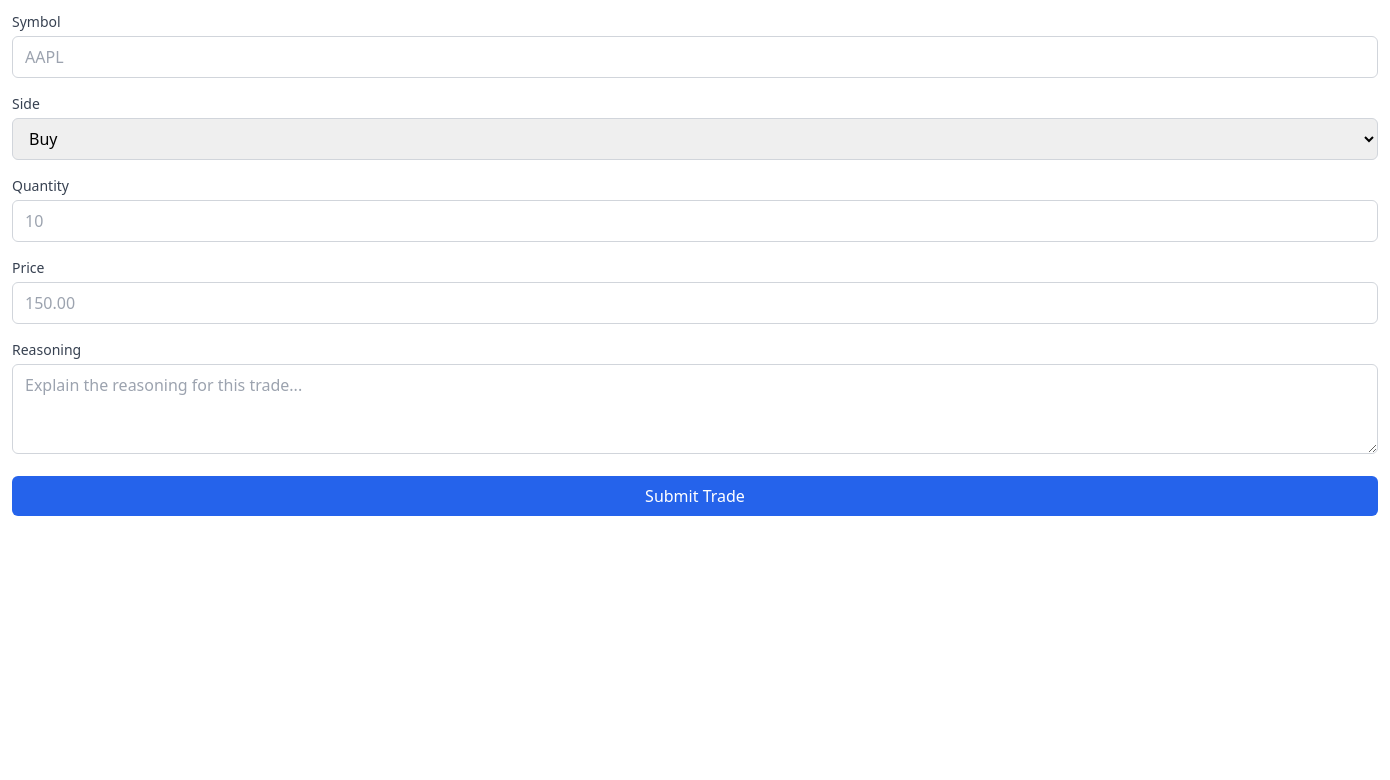
TradeForm › shows warning for large trades
Type "20" into the number field labelled "Quantity".
click(695, 221); type("20")  # box [12,200,1378,242]
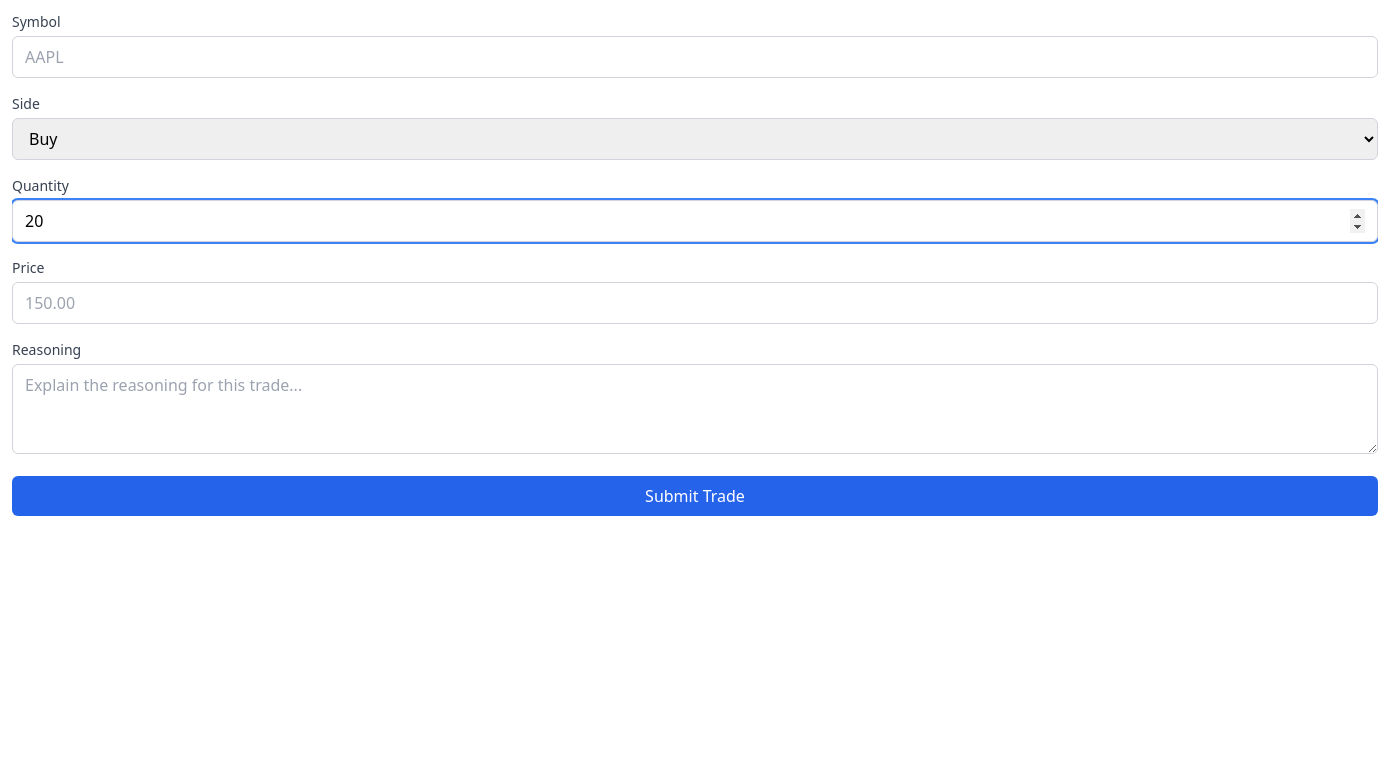
Type "100" into the number field labelled "Price".
click(695, 303); type("100")  # box [12,282,1378,324]
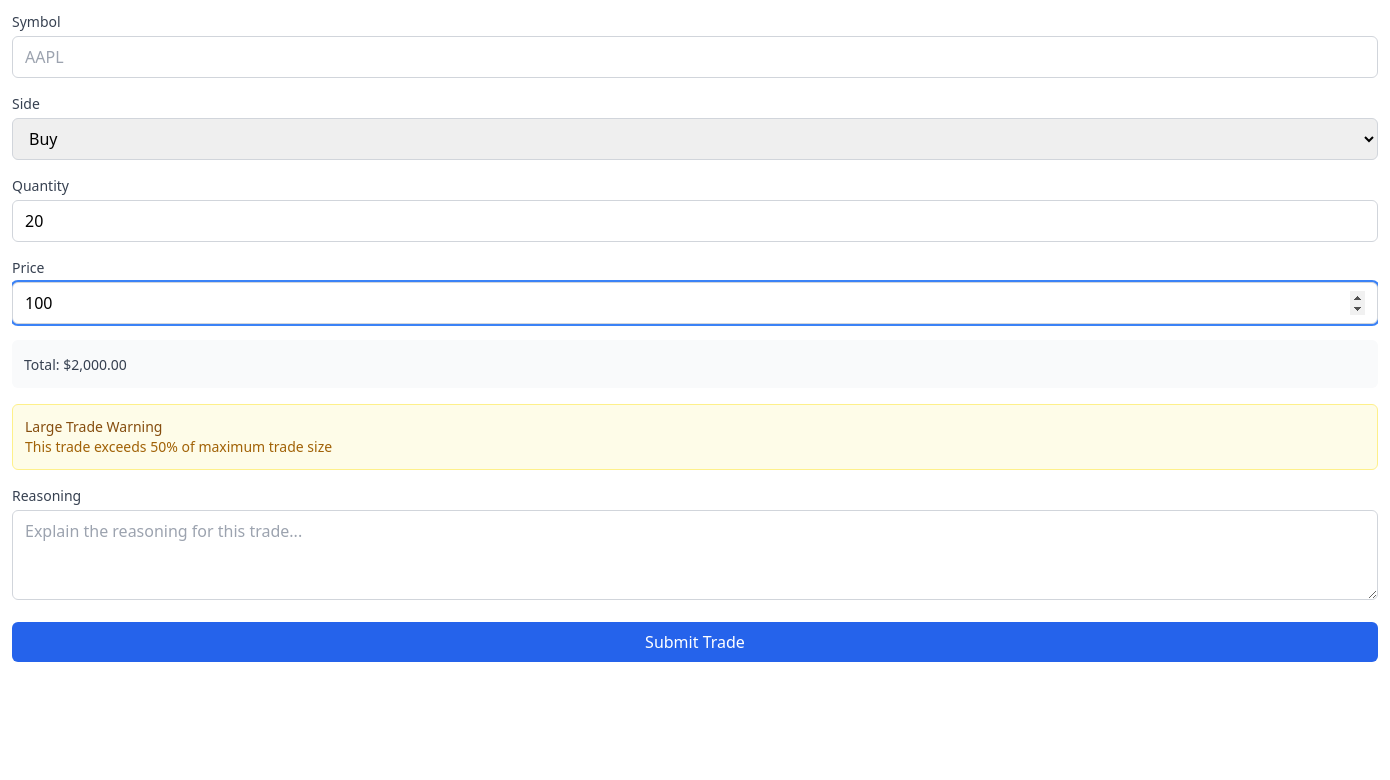
Expected: the text "Large Trade Warning" is shown, [25,417,162,436]
Expected: the text "This trade exceeds 50% of maximum trade size" is shown, [25,437,332,456]
